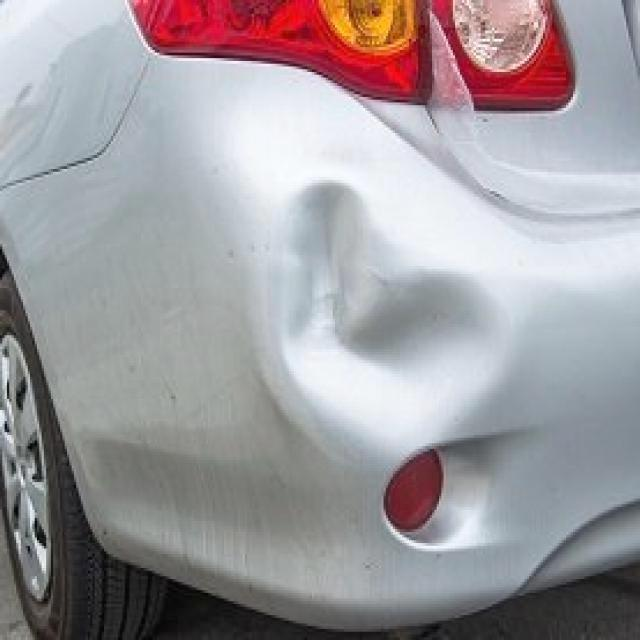minor: (214, 143, 547, 473)
